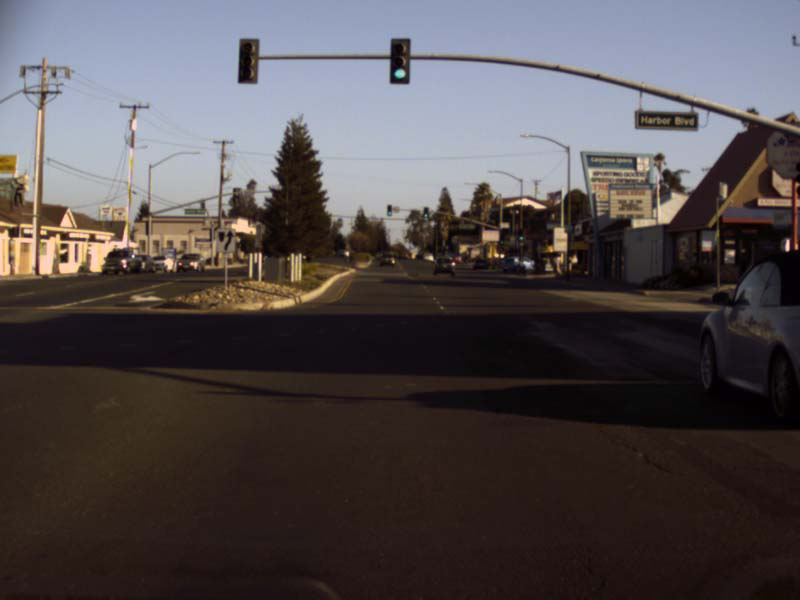Green: (389, 38, 408, 83), (518, 229, 524, 240), (499, 234, 504, 243), (423, 207, 427, 217), (386, 205, 390, 215)
